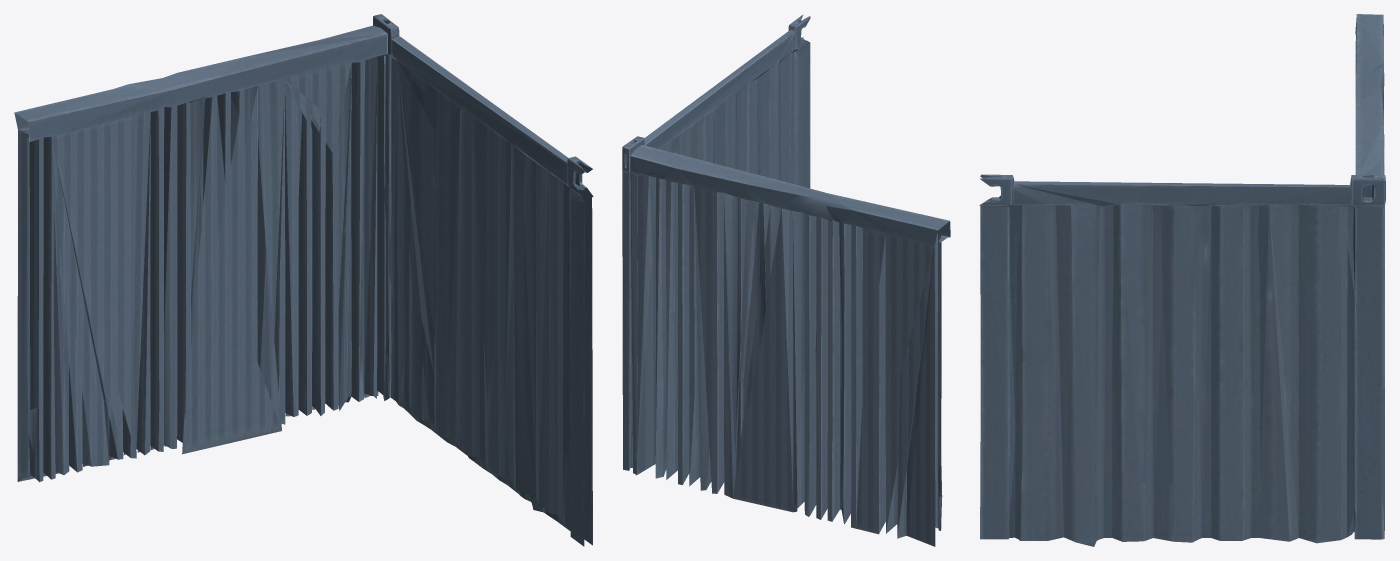
3 views of the same model, side by side, from view 1: azimuth 30°, elevation 25°; view 2: azimuth 150°, elevation 25°; view 3: azimuth 270°, elevation 25° (orthographic). The views are drawn at different scales.
Parts seen in each view (by area): view 1: container-shell; view 2: container-shell; view 3: container-shell.
Part boxes in pixels (<box>): container-shell: <box>14,14,593,546</box>; container-shell: <box>622,14,950,546</box>; container-shell: <box>979,14,1385,546</box>.
Size of the model in its own units: 1 by 1 by 1.
Materials: 1 (1 with a texture image).
